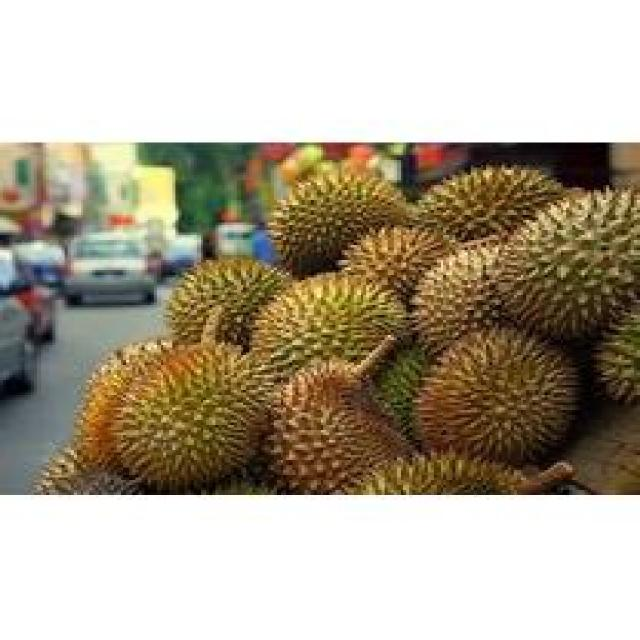fruit: (360, 150, 597, 478)
